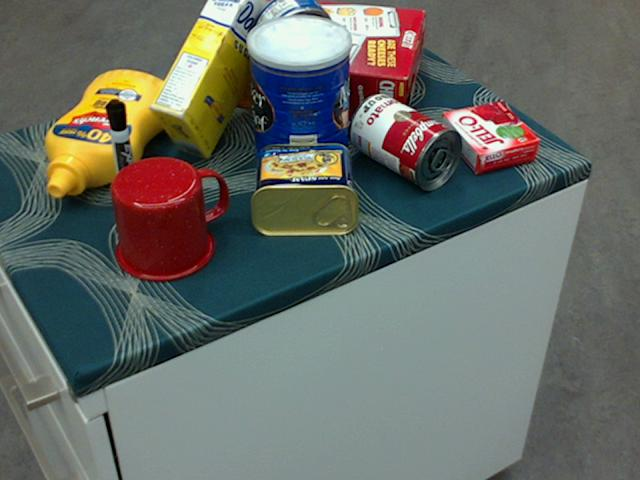cracker_box: (218, 0, 423, 125)
gelatin_box: (439, 102, 538, 172)
large_marker: (103, 99, 141, 211)
master_chef_can: (246, 15, 351, 184)
mug: (111, 155, 229, 281)
mustard_bottle: (44, 70, 175, 197)
potted_meat_can: (250, 140, 358, 237)
sugar_box: (149, 0, 276, 160)
tomato_soup_can: (349, 92, 462, 190)
tuna_fish_can: (250, 0, 333, 74)
